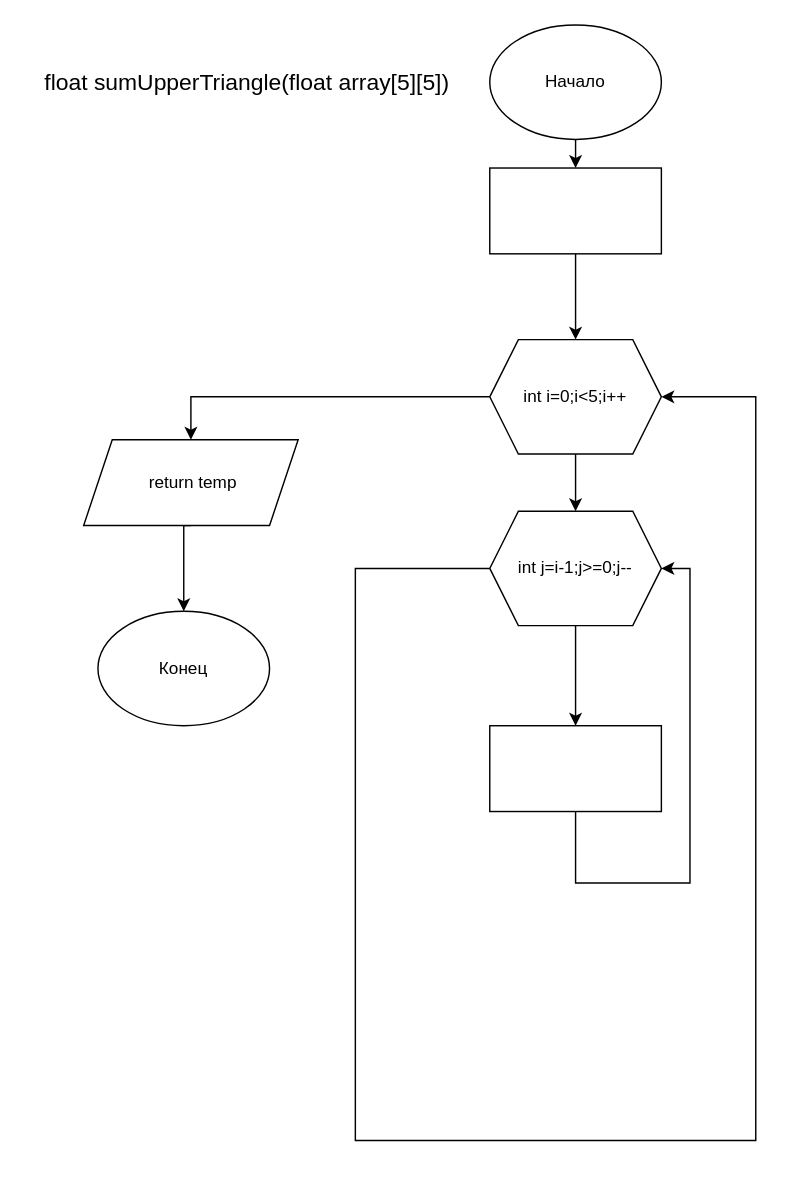
Some shapes in this 792 by 1177 pixel diagram are drawn without their labels. The shapes that lost their labels are listed below. From the top down, each one's centre as x and y in pixels, then its label:
(574,210): temp = 0
(574,768): temp += array[j][i];
